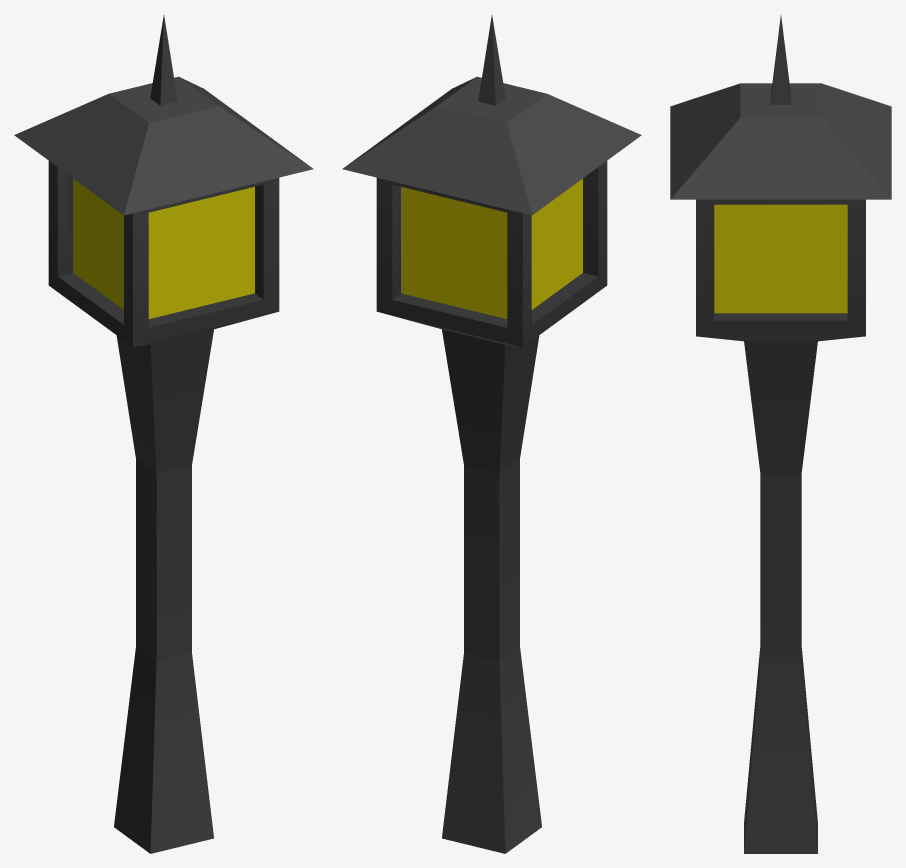
Rendered from LightPost.glb.
3 views of the same model, side by side, from view 1: azimuth 30°, elevation 25°; view 2: azimuth 150°, elevation 25°; view 3: azimuth 270°, elevation 25° (orthographic).
Parts seen in each view (by area): view 1: Cube; view 2: Cube; view 3: Cube.
Part boxes in pixels (box(x1,y1,x2,y2)): Cube: box(14, 15, 313, 853); Cube: box(342, 15, 641, 853); Cube: box(670, 15, 891, 853).
Bounding box in the file's own units: 1.32 × 5.45 × 1.32.
